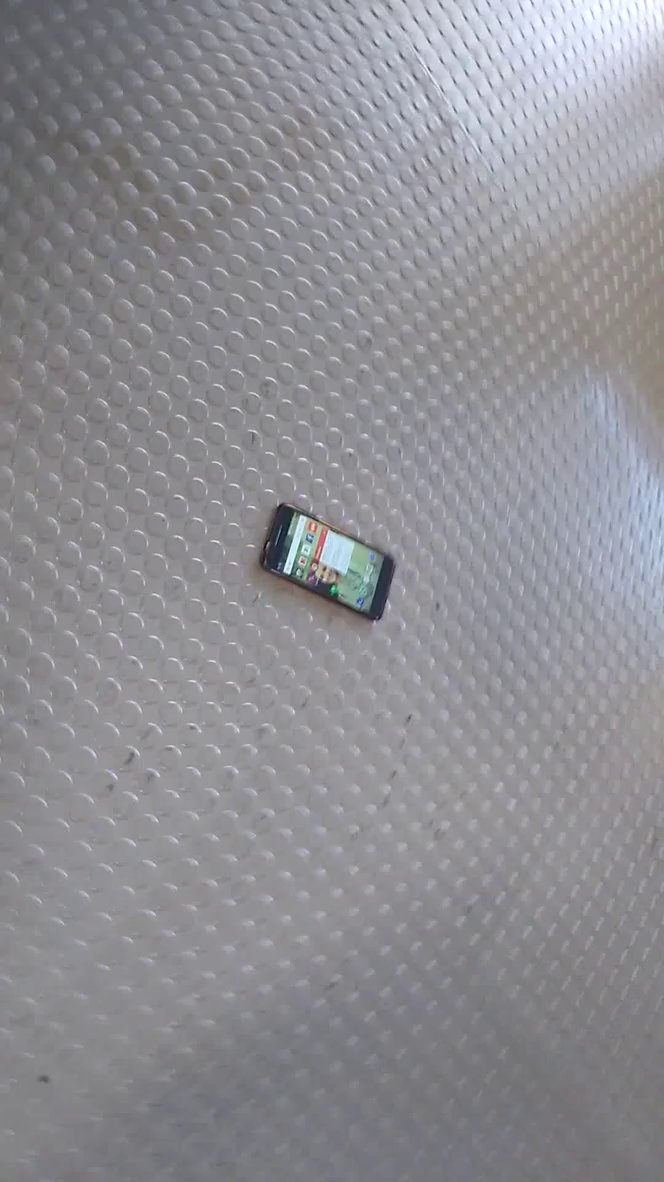phone: (251, 495, 407, 639)
